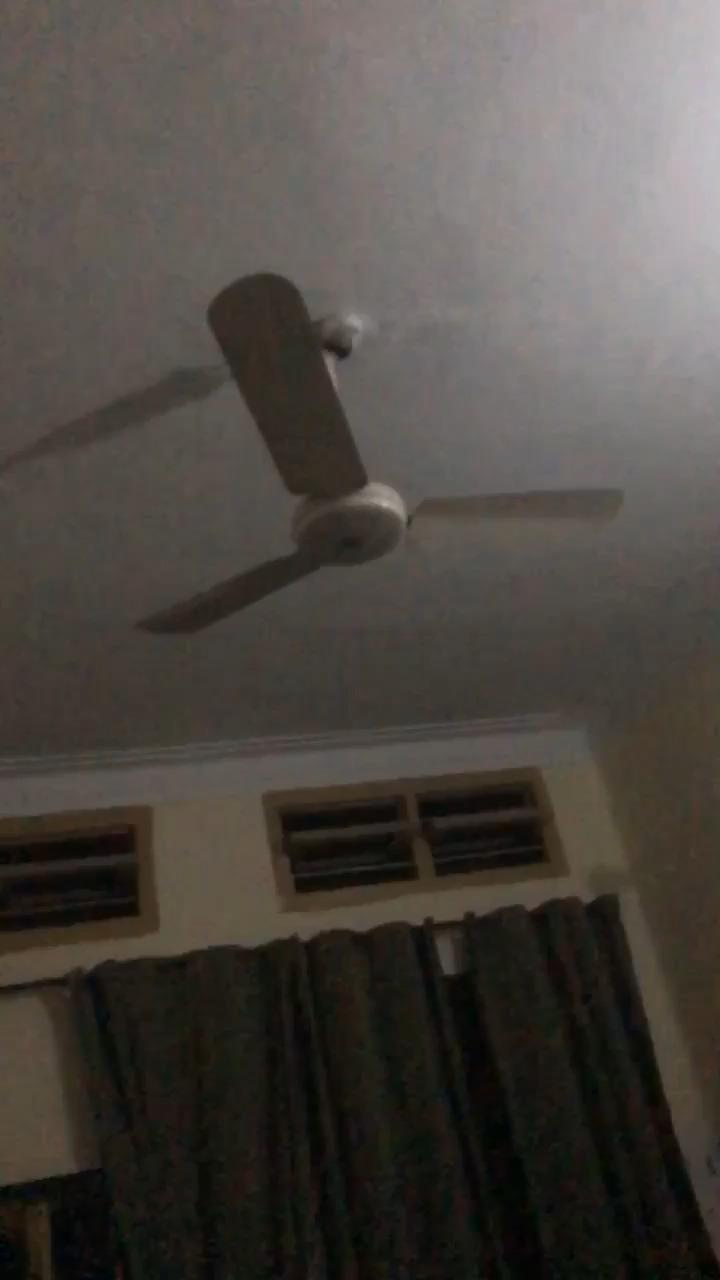fan: (3, 270, 624, 636)
